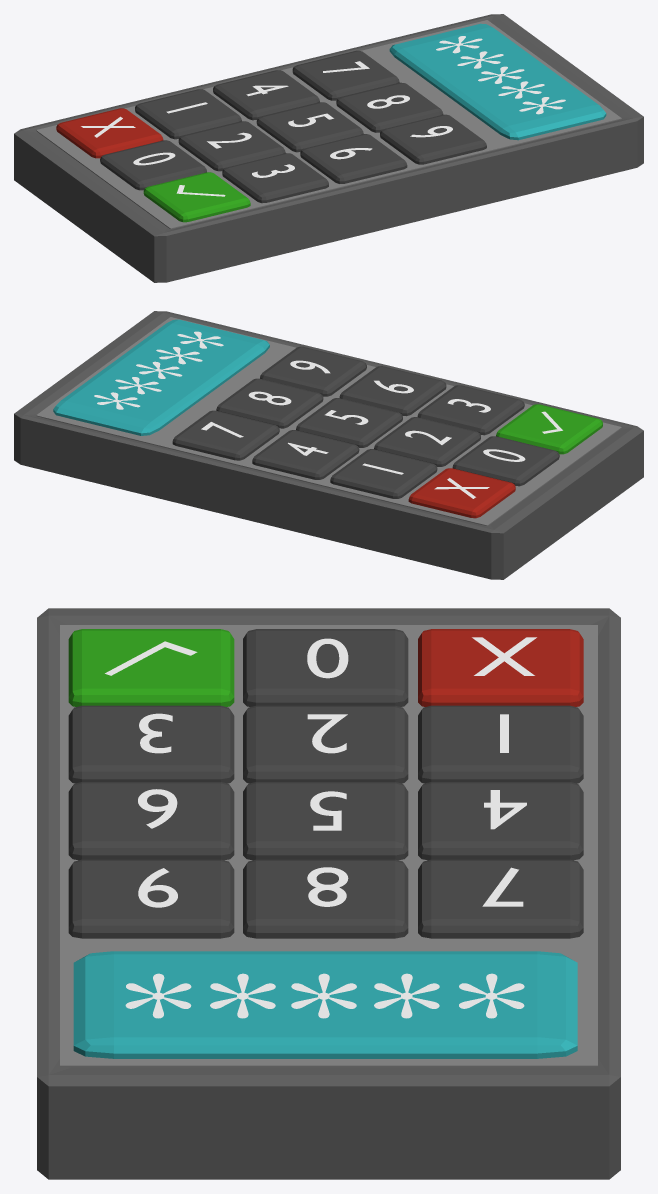
Rendered from Code_Panel.fbx.
The picture shows the model from 3 angles, top to bottom: view 1: azimuth 30°, elevation 25°; view 2: azimuth 150°, elevation 25°; view 3: azimuth 270°, elevation 25°; orthographic projection. The views are drawn at different scales.
Parts seen in each view (by area): view 1: Cube.002, Cube.014, Cube, Cube.004, Cube.007, Cube.013, Cube.010, Cube.005, Cube.011, Cube.006, Cube.008, Cube.009 (+3 smaller); view 2: Cube.002, Cube.014, Cube, Cube.005, Cube.011, Cube.008, Cube.001, Cube.004, Cube.006, Cube.007, Cube.009, Cube.003 (+3 smaller); view 3: Cube.002, Cube.014, Cube, Cube.011, Cube.013, Cube.005, Cube.004, Cube.012, Cube.009, Cube.010, Cube.008, Cube.007 (+11 smaller).
Part boxes in pixels (box(x1,y1,x2,y2)): Cube.002: box(14, 14, 643, 282); Cube.014: box(389, 23, 606, 140); Cube: box(36, 20, 621, 228); Cube.004: box(143, 172, 250, 222); Cube.007: box(222, 153, 328, 203); Cube.013: box(380, 114, 486, 164); Cube.010: box(300, 134, 407, 183); Cube.005: box(135, 89, 241, 139); Cube.011: box(292, 50, 399, 100); Cube.006: box(178, 121, 285, 171); Cube.008: box(213, 70, 319, 120); Cube.009: box(256, 102, 363, 152); Cube.002: box(14, 311, 643, 579); Cube.014: box(53, 319, 269, 435); Cube: box(36, 317, 621, 525); Cube.005: box(330, 449, 437, 498); Cube.011: box(172, 410, 279, 460); Cube.008: box(252, 430, 359, 479); Cube.001: box(408, 468, 515, 518); Cube.004: box(496, 404, 602, 454); Cube.006: box(374, 417, 480, 466); Cube.007: box(417, 385, 524, 435); Cube.009: box(296, 398, 402, 447); Cube.003: box(452, 436, 559, 486); Cube.002: box(37, 608, 620, 1179); Cube.014: box(73, 951, 577, 1058); Cube: box(60, 625, 597, 1067); Cube.011: box(418, 859, 583, 938); Cube.013: box(68, 859, 234, 938); Cube.005: box(418, 705, 583, 783); Cube.004: box(68, 629, 234, 706); Cube.012: box(243, 859, 408, 938); Cube.009: box(243, 782, 408, 860); Cube.010: box(68, 782, 234, 860); Cube.008: box(418, 782, 583, 860); Cube.007: box(68, 705, 234, 783).
Bounding box in the file's own units: 471 × 52.08 × 243.
